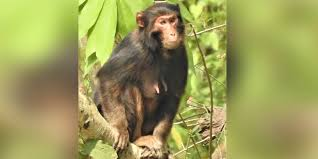monkey: (75, 11, 237, 139)
